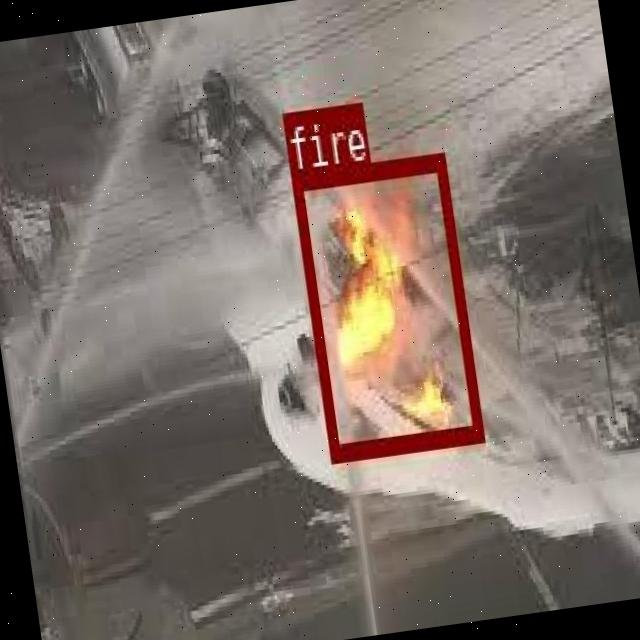fire: (289, 153, 482, 458)
